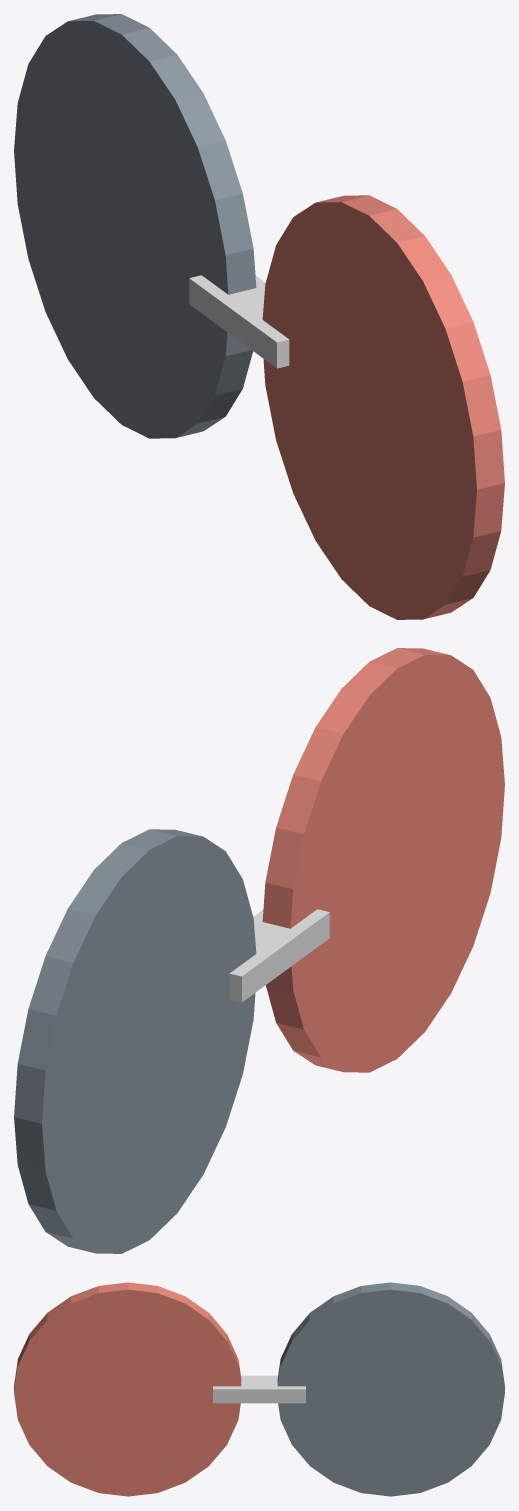
Rendered from BicyclePlaceholder.glb.
3 renders of one model, top to bottom at view 1: azimuth 30°, elevation 25°; view 2: azimuth 150°, elevation 25°; view 3: azimuth 270°, elevation 25°, orthographic. The views are drawn at different scales.
Visible parts, largest first — view 1: WheelFront, WheelRear, Cube; view 2: WheelRear, WheelFront, Cube; view 3: WheelFront, WheelRear, Cube.
Boxes of the visible parts, x1,y1,x2,y2 form: WheelFront: (262,195,504,619); WheelRear: (14,14,256,438); Cube: (189,275,289,368); WheelRear: (14,829,256,1253); WheelFront: (262,648,504,1072); Cube: (229,909,329,1002); WheelFront: (14,1282,241,1496); WheelRear: (277,1282,504,1496); Cube: (213,1375,305,1403).
Size of the model in its own units: 0.2823 by 2 by 4.3.
